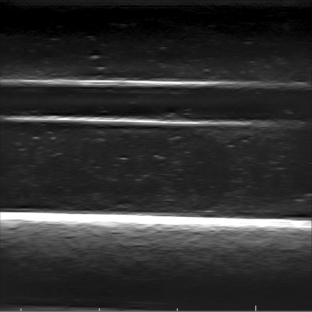vessel: (3, 78, 303, 128)
